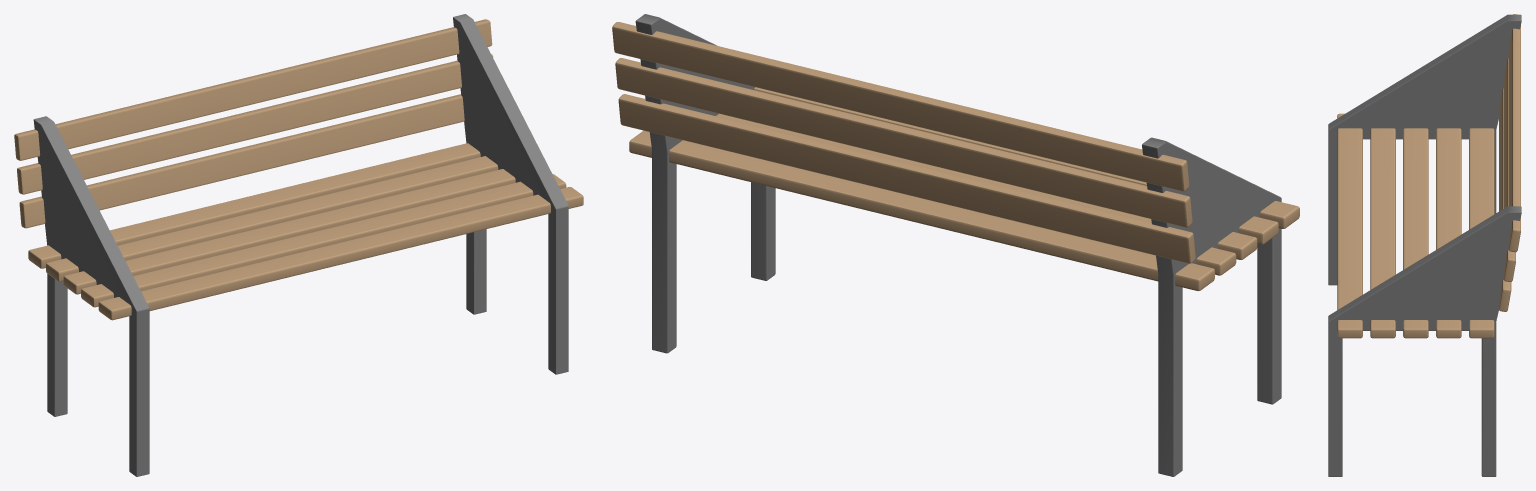
Rendered from industrial.workshop.seat_bench.glb.
3 views of the same model, side by side, from view 1: azimuth 30°, elevation 25°; view 2: azimuth 150°, elevation 25°; view 3: azimuth 270°, elevation 25° (orthographic). The views are drawn at different scales.
Visible parts, largest first — view 1: main__timber_ca7, main__steel_888; view 2: main__timber_ca7, main__steel_888; view 3: main__steel_888, main__timber_ca7.
Part boxes in pixels (x1,y1,x2,y2): main__timber_ca7: (14, 19, 583, 320); main__steel_888: (33, 14, 568, 476); main__timber_ca7: (612, 22, 1299, 291); main__steel_888: (635, 14, 1281, 476); main__steel_888: (1328, 14, 1521, 476); main__timber_ca7: (1337, 14, 1520, 338).
Bounding box in the file's own units: 1.4 × 0.8 × 0.5294.
